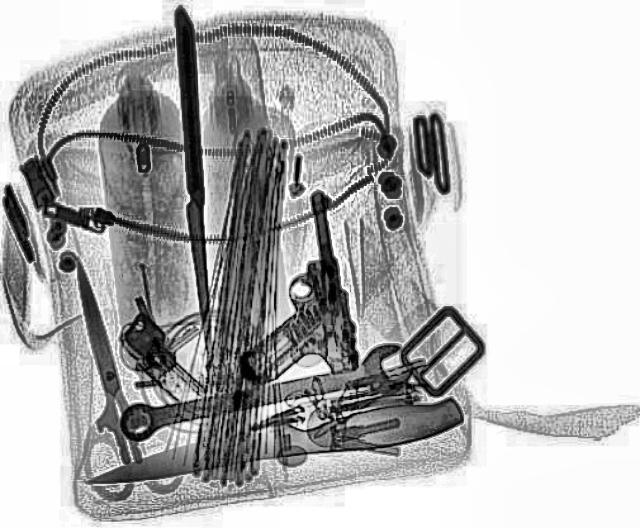Gun: (212, 188, 362, 382)
Knife: (78, 388, 464, 502), (50, 255, 154, 468), (167, 9, 219, 376)
Wrench: (109, 336, 418, 446)
